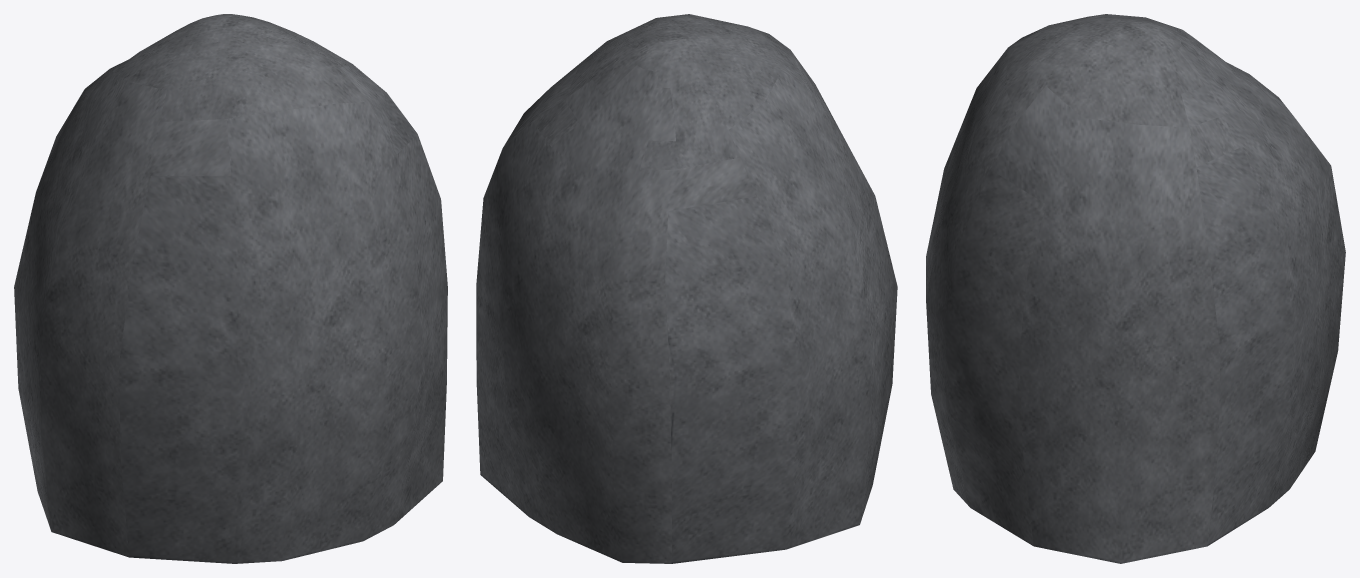
File: yuvarlak_tas.FBX
3 renders of one model, left to right at view 1: azimuth 30°, elevation 25°; view 2: azimuth 150°, elevation 25°; view 3: azimuth 270°, elevation 25°, orthographic. The views are drawn at different scales.
Parts seen in each view (by area): view 1: Cone006; view 2: Cone006; view 3: Cone006.
Boxes of the visible parts, x1,y1,x2,y2 form: Cone006: [14, 14, 447, 563]; Cone006: [476, 14, 897, 563]; Cone006: [926, 14, 1345, 563].
Size of the model in its own units: 460 by 514 by 442.
1 material, 1 textured.
